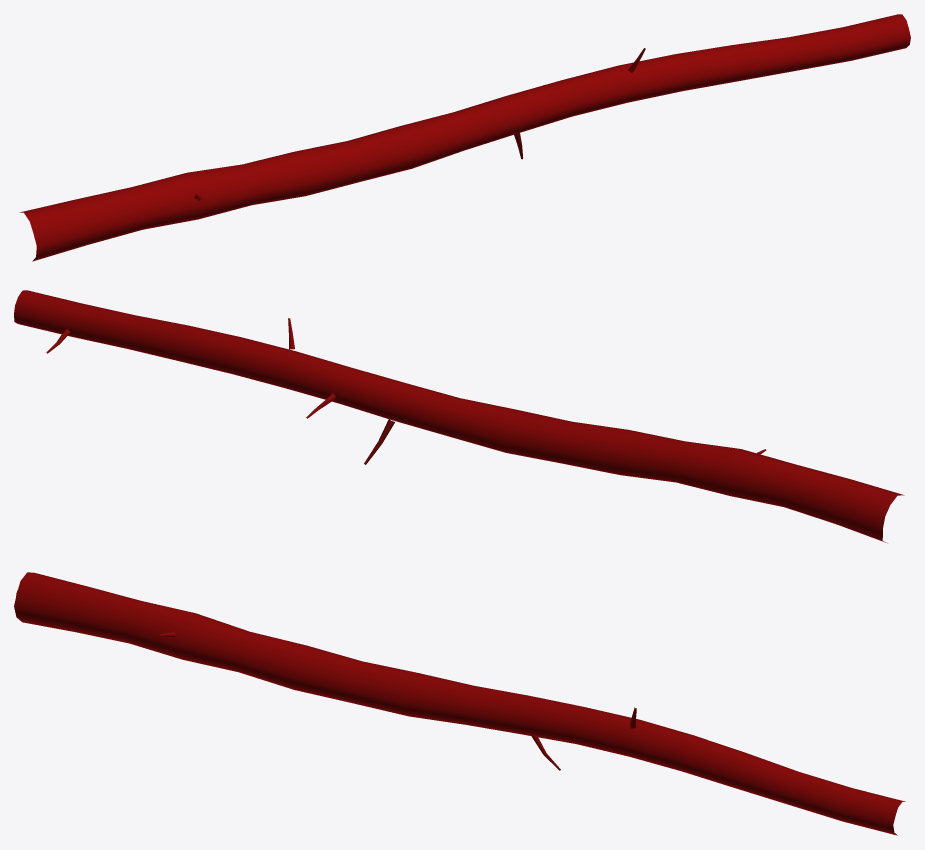
File: log_spruce.glb
3 views of the same model, one above another, from view 1: azimuth 30°, elevation 25°; view 2: azimuth 150°, elevation 25°; view 3: azimuth 330°, elevation 25° (orthographic).
Parts seen in each view (by area): view 1: LOD0; view 2: LOD0; view 3: LOD0.
Boxes of the visible parts, <box> form: LOD0: <box>19,14,910,261</box>; LOD0: <box>14,290,904,543</box>; LOD0: <box>14,572,905,835</box>.
Size of what is drawn, in the model's own units: 8.02 by 0.9152 by 0.907.
